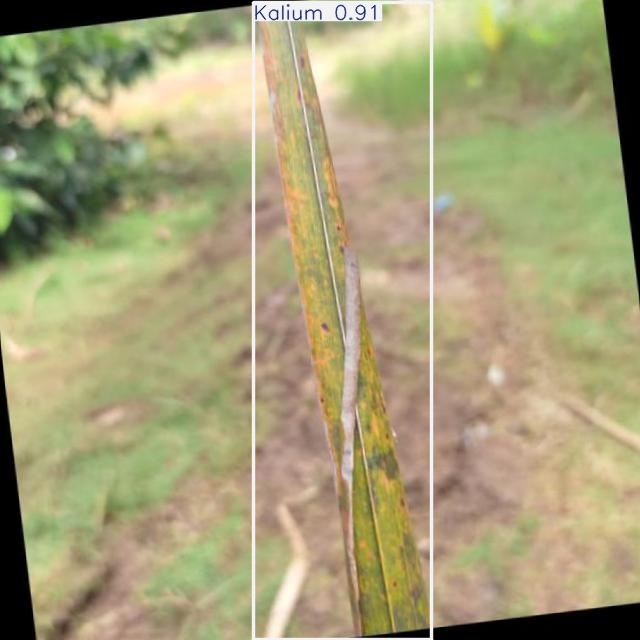Kalium: (254, 2, 431, 640)
